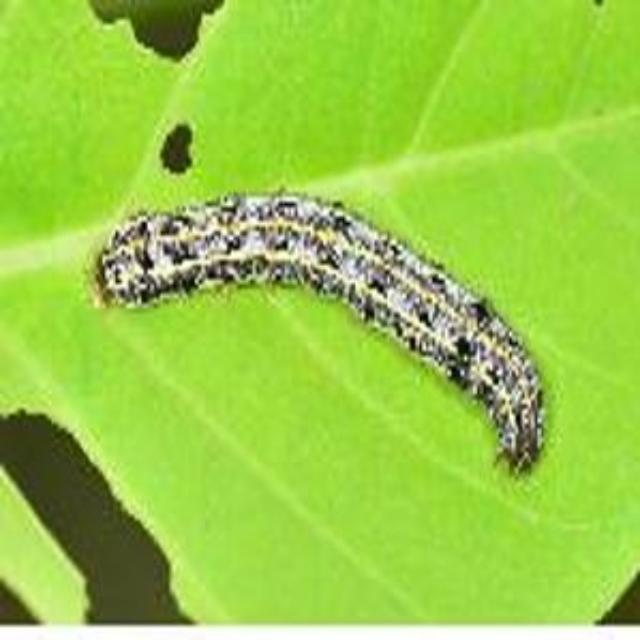Tobacco cutworm: (67, 155, 567, 517)
